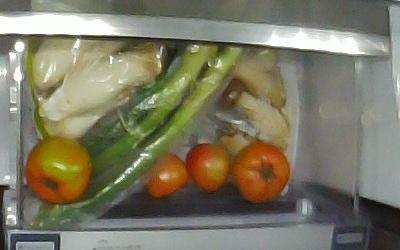tomato: (26, 135, 91, 204), (230, 142, 291, 201), (141, 152, 188, 198), (186, 143, 230, 191)
